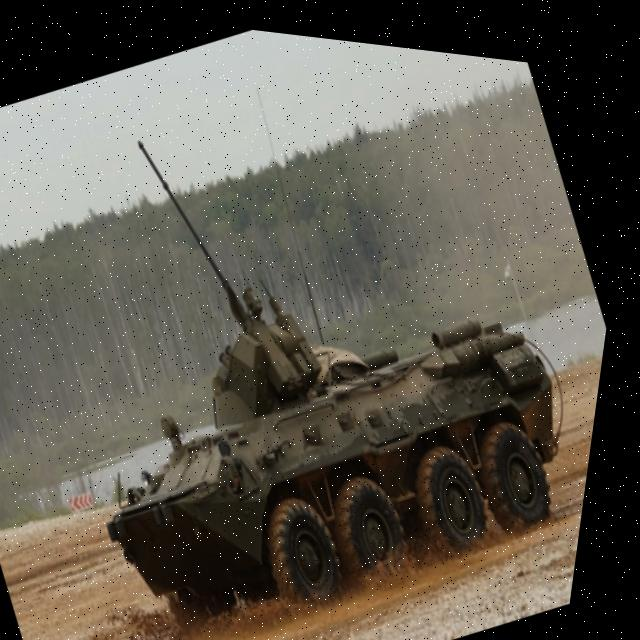MIL_APC: (43, 162, 624, 640)
